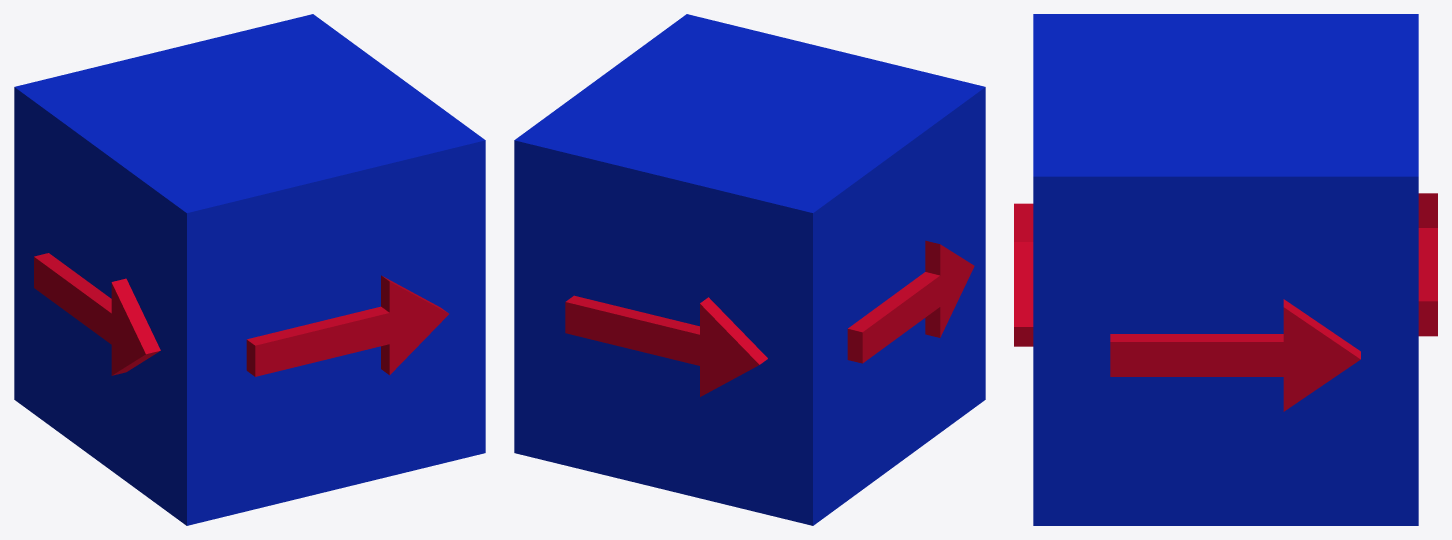
3 renders of one model, left to right at view 1: azimuth 30°, elevation 25°; view 2: azimuth 150°, elevation 25°; view 3: azimuth 270°, elevation 25°, orthographic. The views are drawn at different scales.
Visible parts, largest first — view 1: Cube; view 2: Cube; view 3: Cube.
Boxes of the visible parts, x1,y1,x2,y2 form: Cube: (14, 14, 485, 525); Cube: (514, 14, 985, 525); Cube: (1014, 14, 1437, 525).
Bounding box in the file's own units: 110 × 100 × 110.
